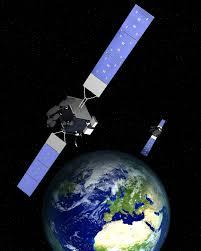body: (45, 95, 98, 138), (148, 125, 162, 137)
solar: (82, 2, 156, 99), (15, 131, 68, 199), (141, 134, 158, 156), (158, 117, 168, 128)
